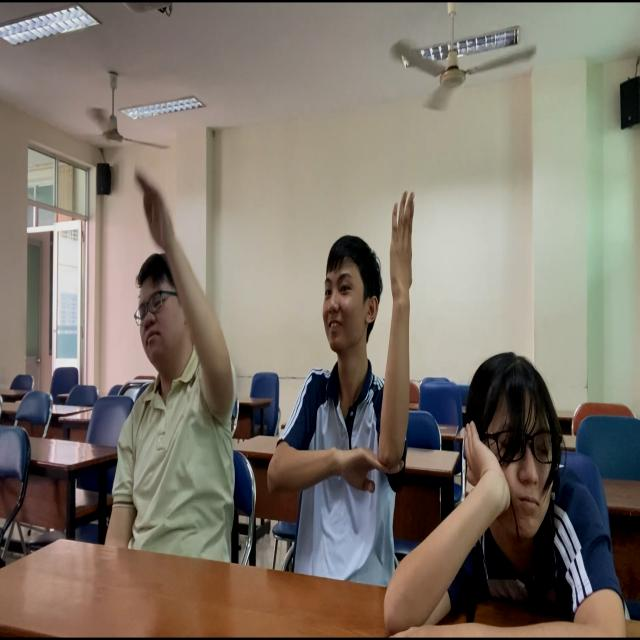raise_hand: (59, 112, 245, 607), (244, 148, 441, 602)
